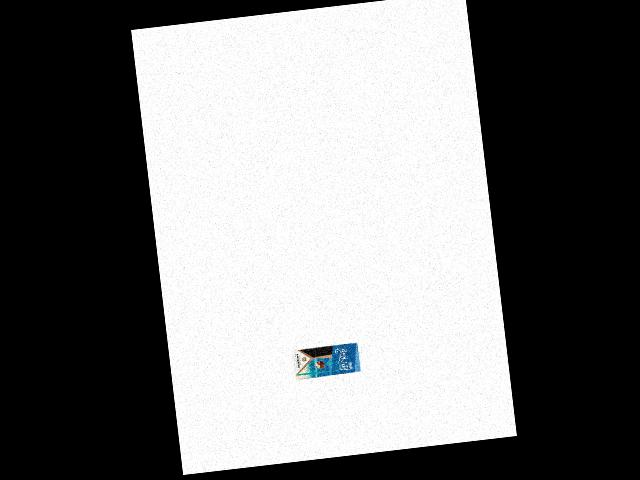chocolate: (289, 340, 362, 381)
